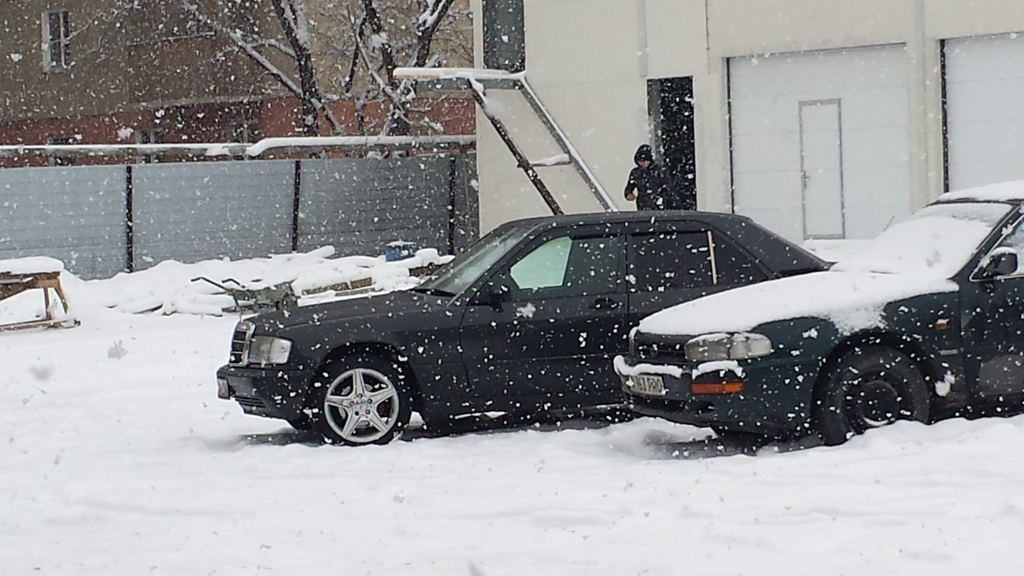cars: (215, 202, 838, 446), (613, 182, 1023, 446)
